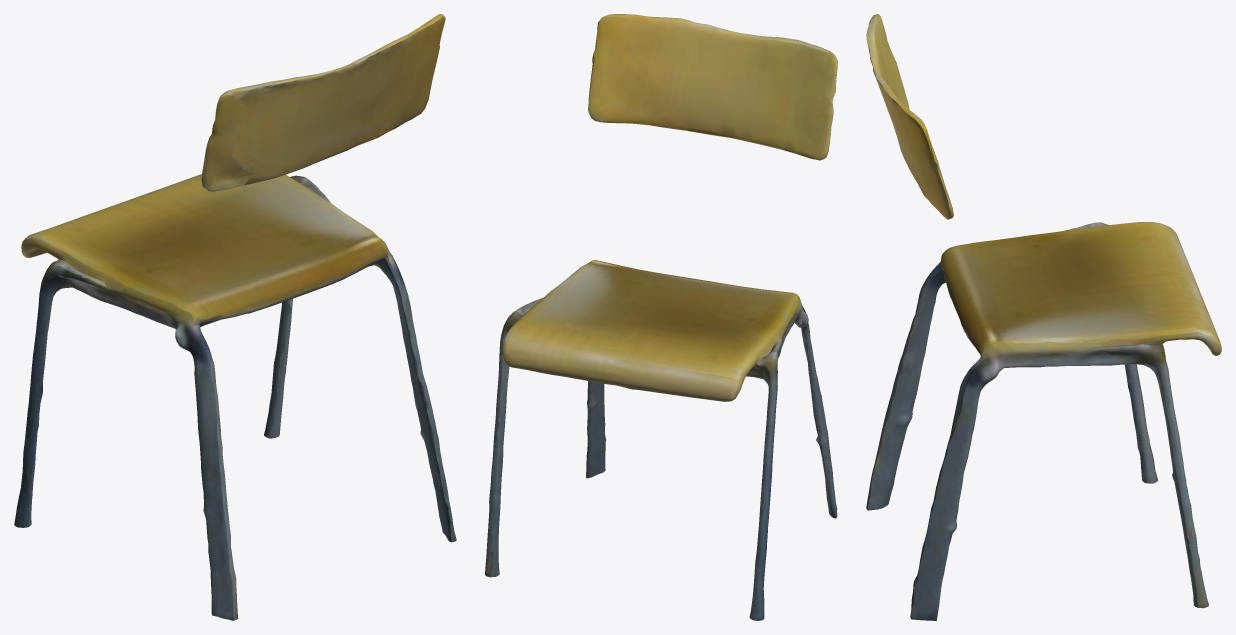
3 views of the same model, side by side, from view 1: azimuth 30°, elevation 25°; view 2: azimuth 150°, elevation 25°; view 3: azimuth 270°, elevation 25° (orthographic). The views are drawn at different scales.
Parts seen in each view (by area): view 1: world; view 2: world; view 3: world.
Boxes of the visible parts, x1,y1,x2,y2 form: world: [14, 14, 456, 620]; world: [485, 14, 837, 620]; world: [866, 14, 1221, 620].
Size of the model in its own units: 0.3048 by 0.4856 by 0.3147.
Materials: 1 (1 with a texture image).
